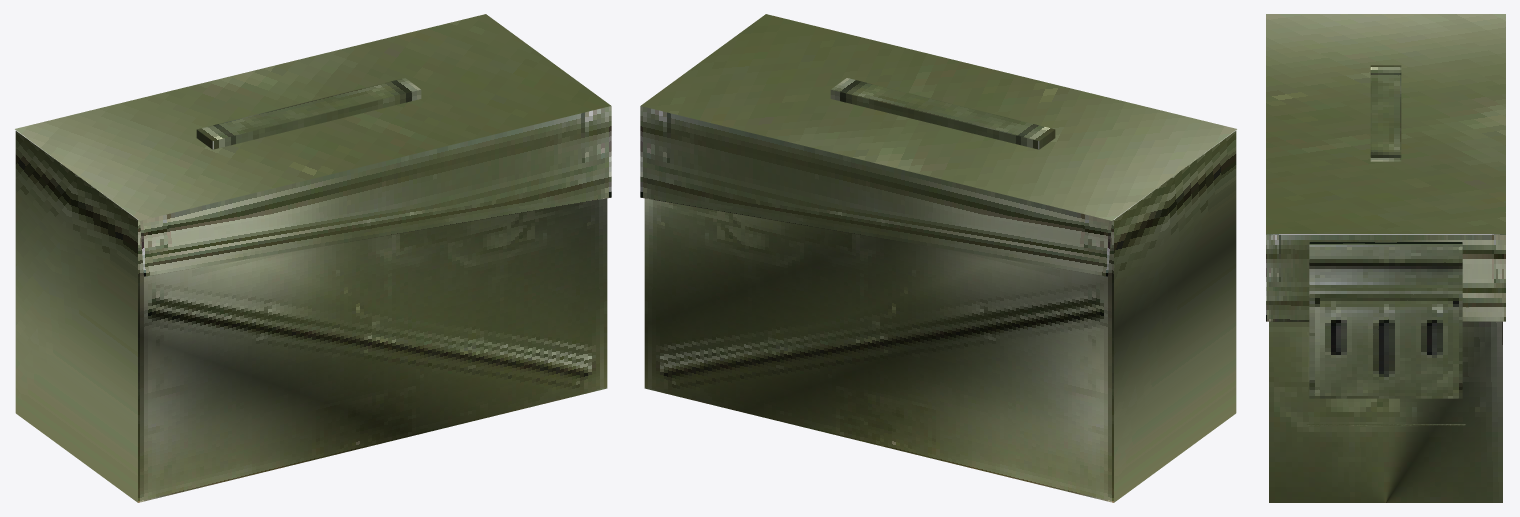
Rendered from ammo_can.glb.
3 renders of one model, left to right at view 1: azimuth 30°, elevation 25°; view 2: azimuth 150°, elevation 25°; view 3: azimuth 270°, elevation 25°, orthographic. The views are drawn at different scales.
Parts seen in each view (by area): view 1: Cube; view 2: Cube; view 3: Cube.
Part boxes in pixels (x1,y1,x2,y2): Cube: (15, 14, 611, 502); Cube: (640, 14, 1236, 502); Cube: (1266, 14, 1505, 502).
Bounding box in the file's own units: 0.36 × 0.2088 × 0.1625.
Materials: 1 (1 with a texture image).
